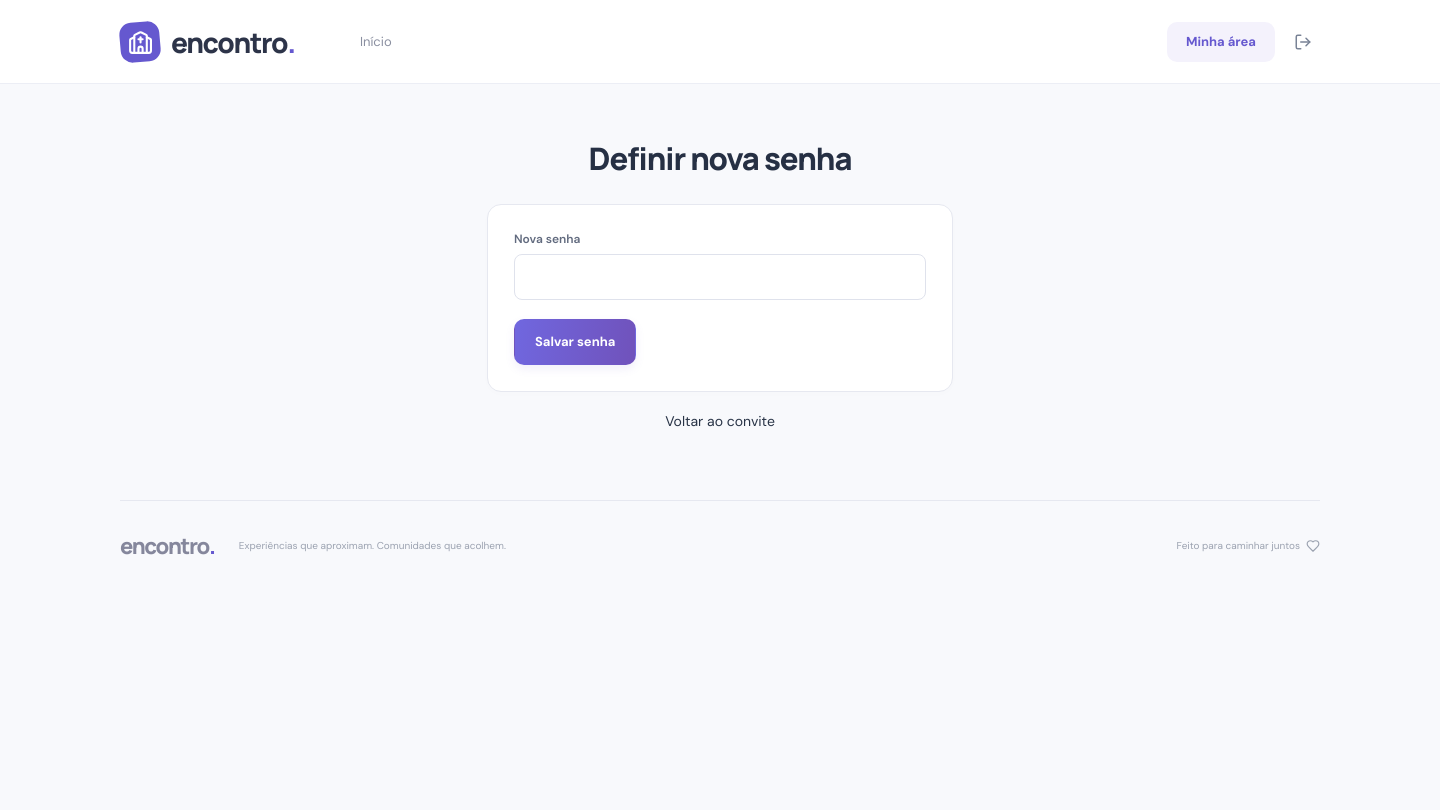
it: Entrada de organizadores › volta ao convite depois de salvar a senha em um navegador sem contexto anterior
Type "senha-nova-do-teste" into the password field labelled "Nova senha" at point(720, 277), box [514,254,926,300]
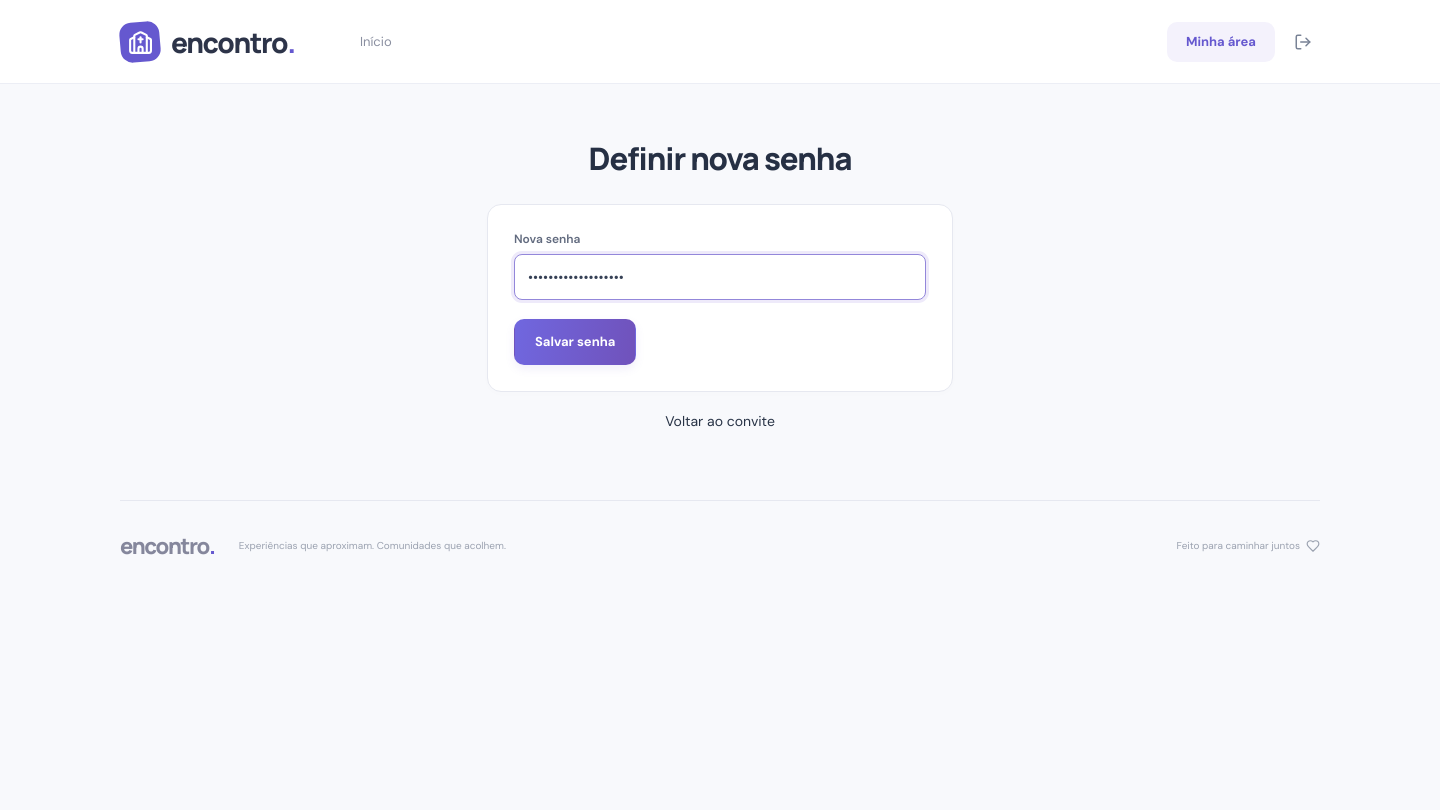
Click the button "Salvar senha" at point(575, 342), box [514,319,636,365]
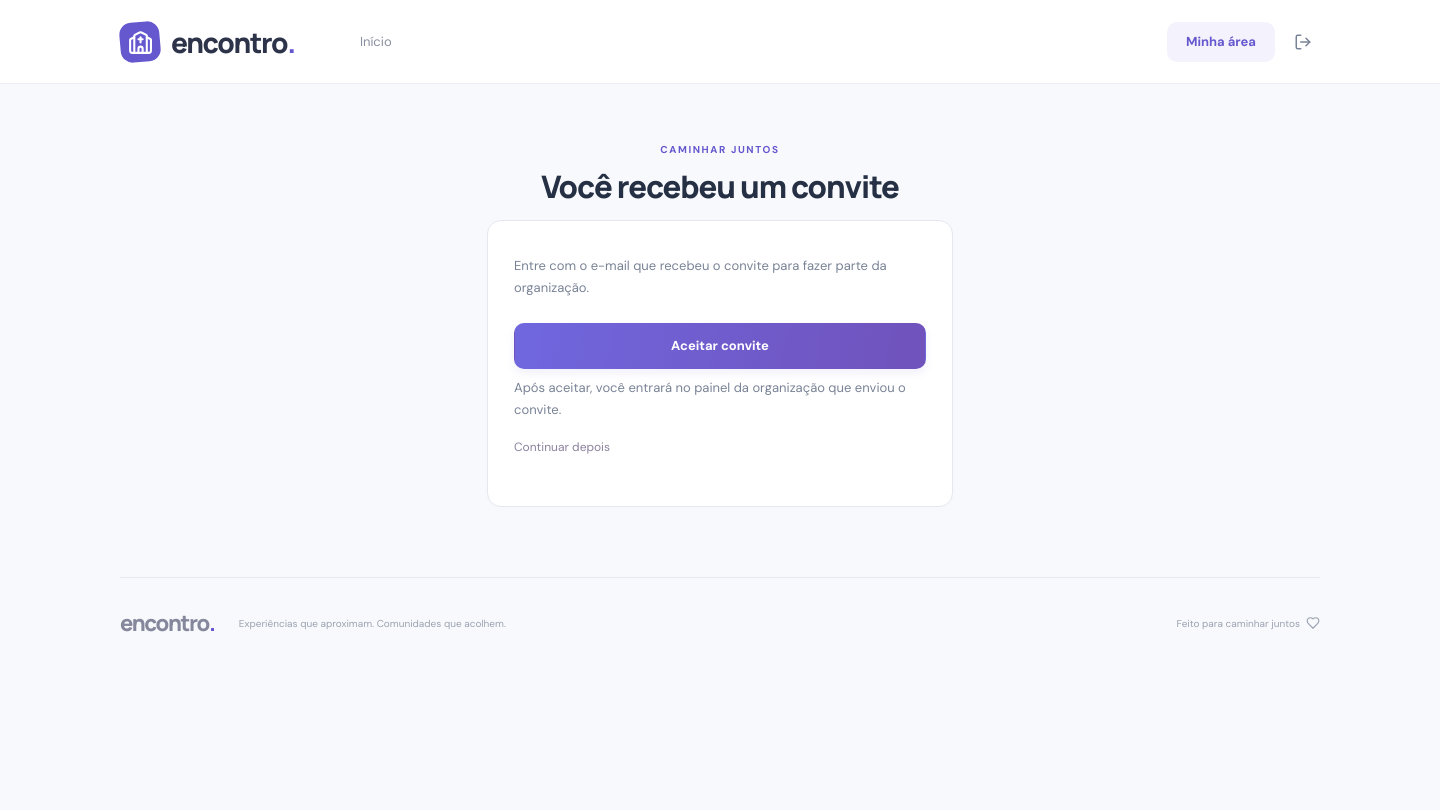
Check: the button "Aceitar convite" is shown, box [514,323,926,369]
